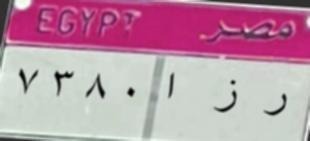0: (118, 82, 142, 108)
3: (50, 66, 76, 101)
7: (16, 64, 42, 103)
8: (84, 69, 108, 105)
alif: (164, 68, 179, 102)
raa: (260, 85, 289, 127)
zay: (212, 79, 240, 120)
